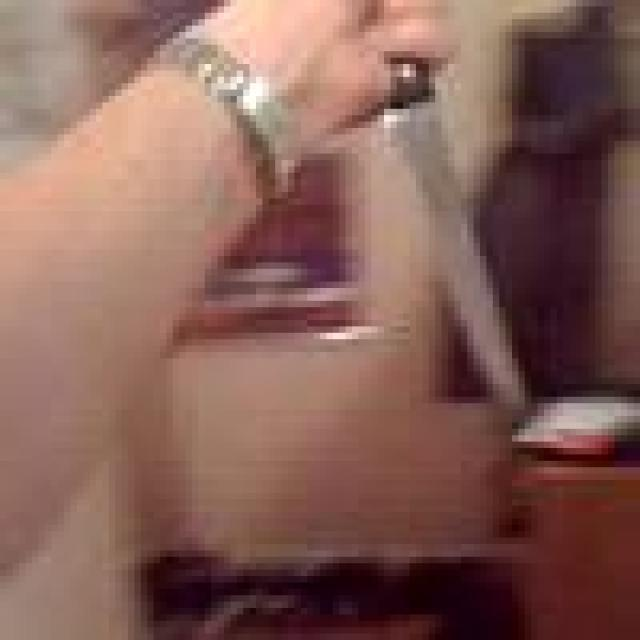faca: (262, 0, 544, 442)
